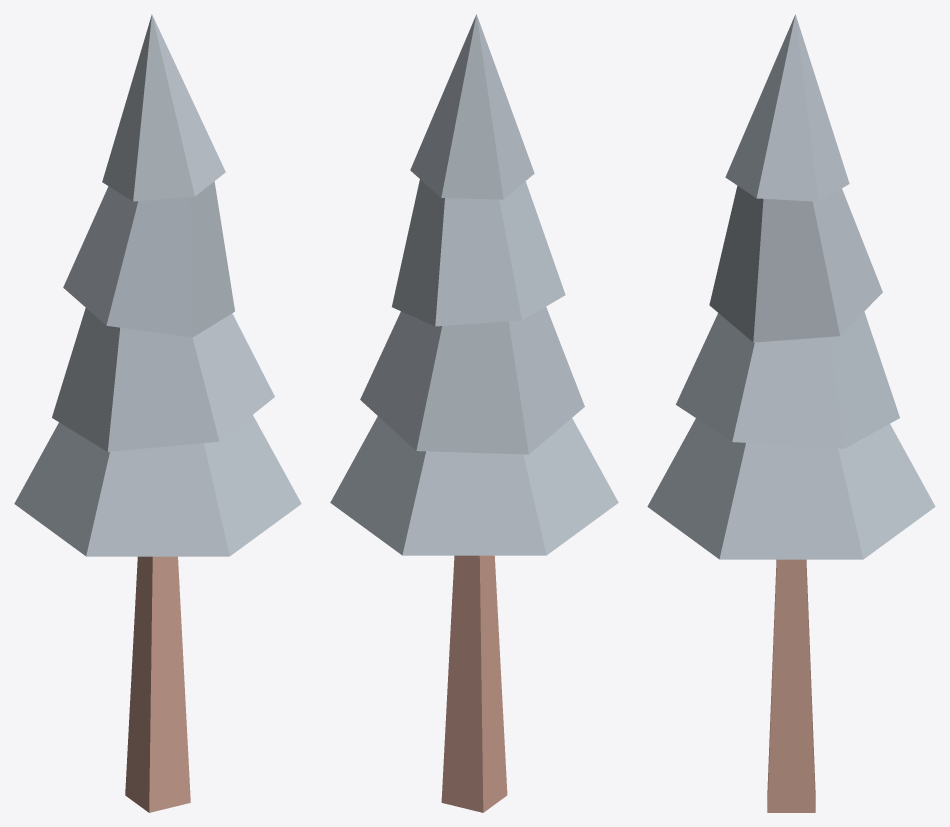
Rendered from proto_pine_snow_c.glb.
3 views of the same model, side by side, from view 1: azimuth 30°, elevation 25°; view 2: azimuth 150°, elevation 25°; view 3: azimuth 270°, elevation 25° (orthographic).
Parts seen in each view (by area): view 1: tree_pineTallC; view 2: tree_pineTallC; view 3: tree_pineTallC.
Boxes of the visible parts, left/top/right/bottom form: tree_pineTallC: left=14, top=14, right=301, bottom=812; tree_pineTallC: left=330, top=14, right=618, bottom=812; tree_pineTallC: left=647, top=14, right=935, bottom=812.
Bounding box in the file's own units: 3.45 × 12 × 3.98.
